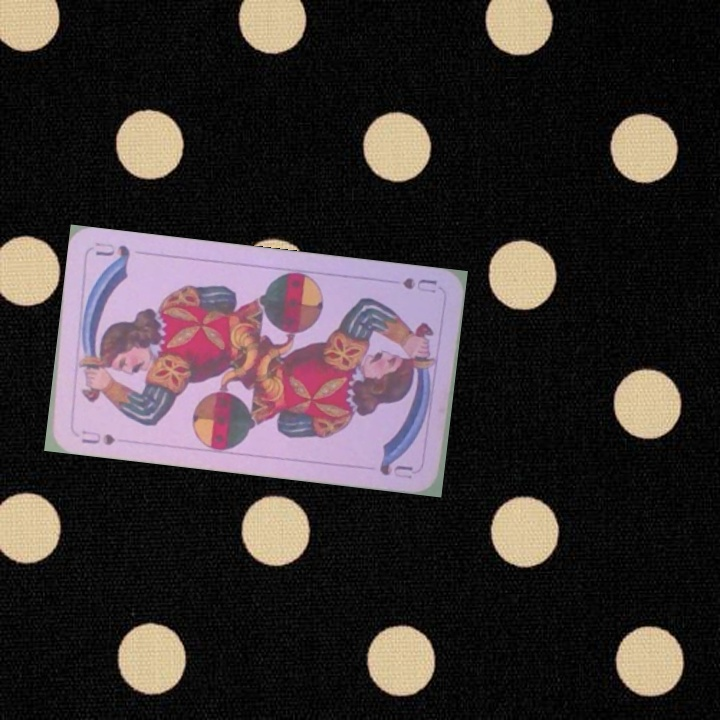SU: (398, 273, 440, 296), (77, 426, 117, 448)
